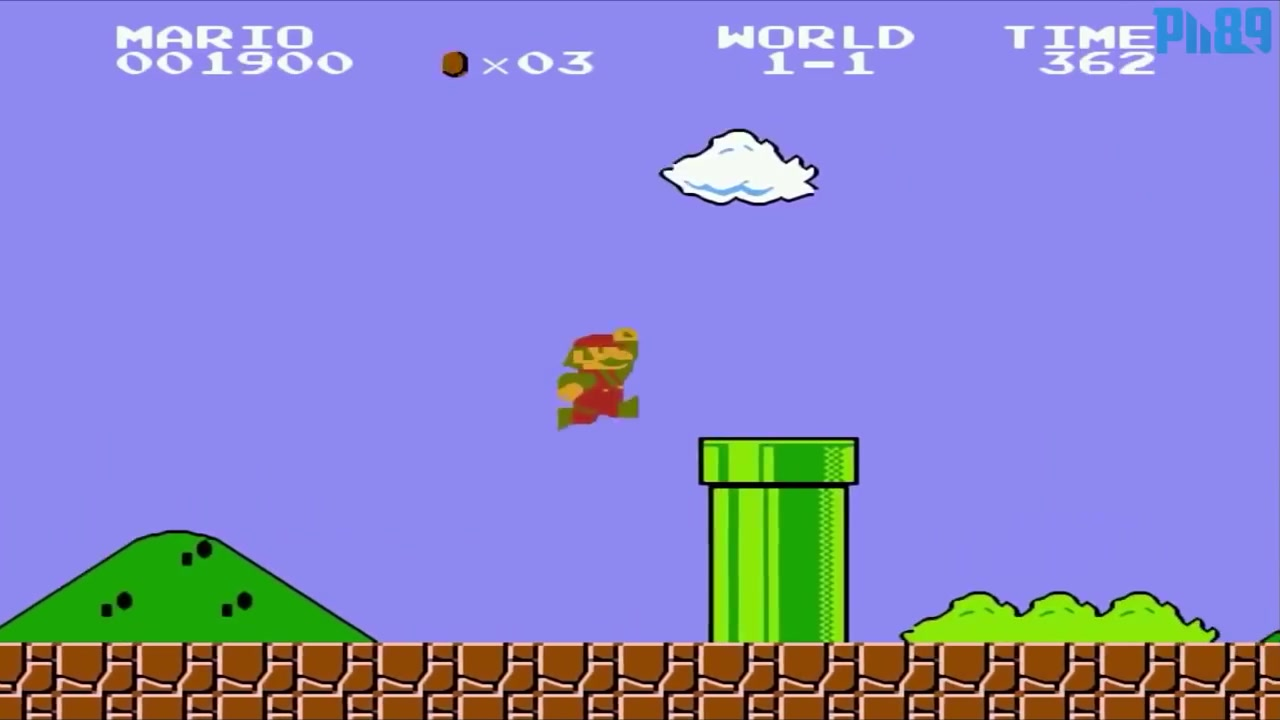mario: (541, 324, 651, 436)
